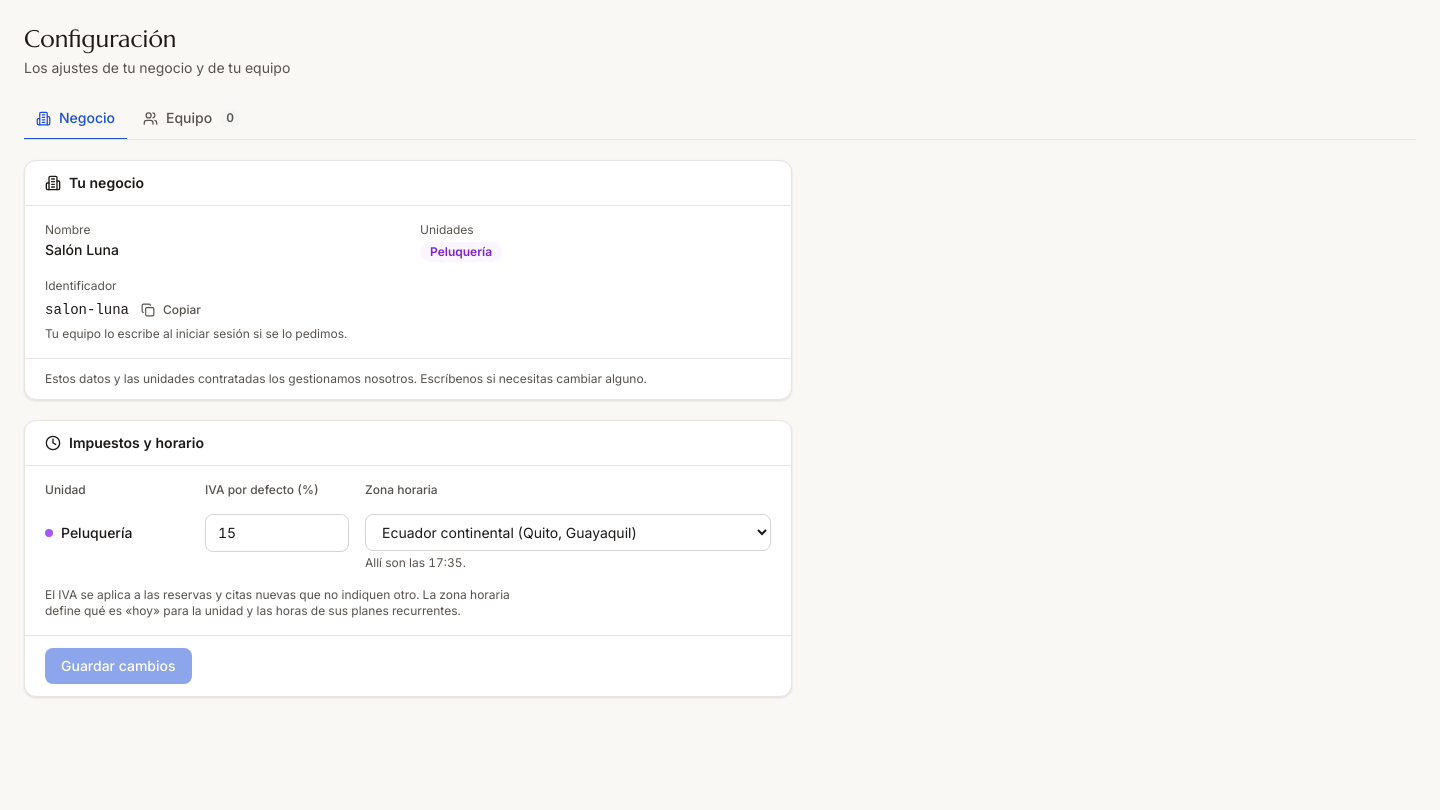
it: saving a unit's settings › shows the server's refusal inside the card and lets the change be discarded
This screenshot has width=1440, height=810.
Replace the text in the number field named "IVA por defecto" with "10" at [277, 533], box top-left (205, 514), bottom-right (349, 552)
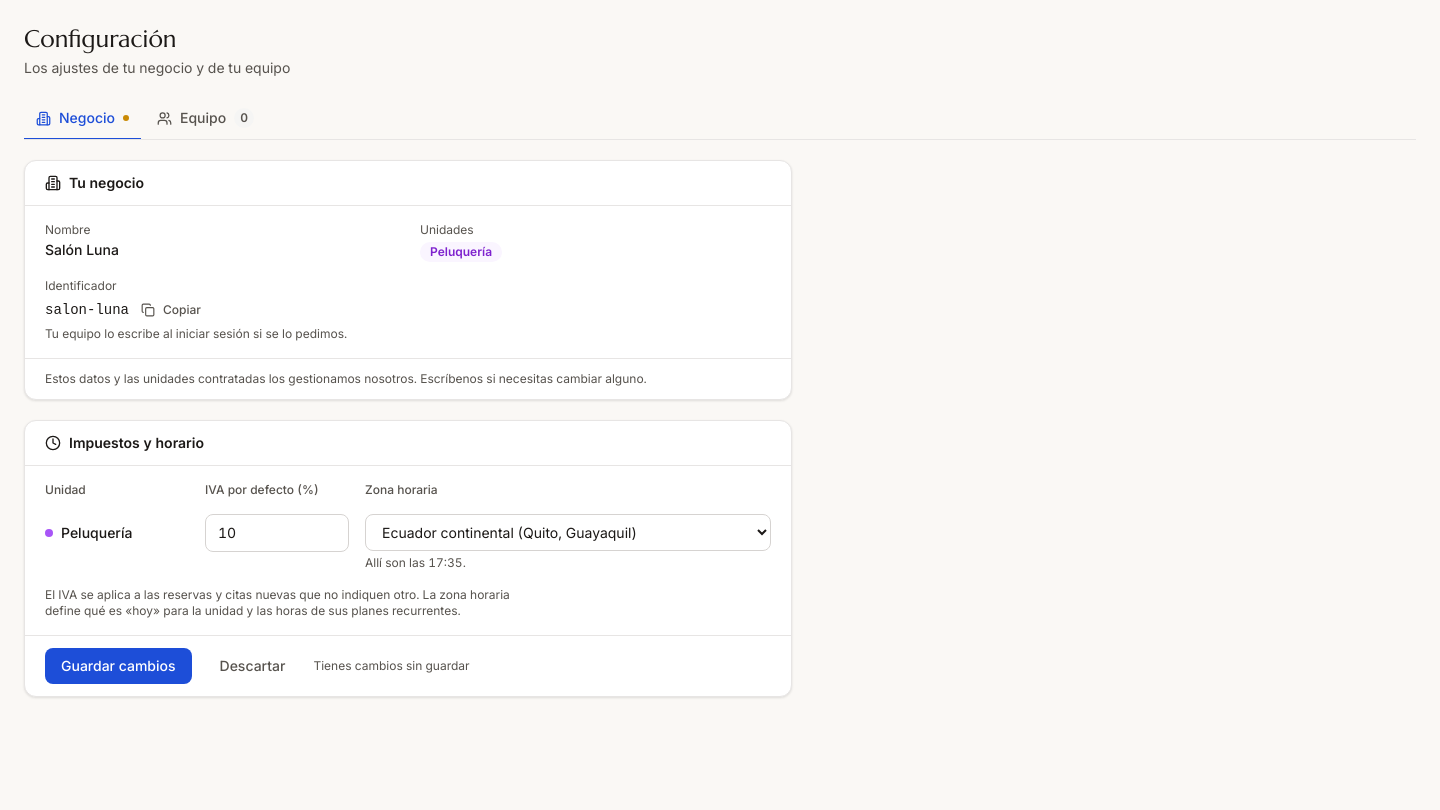
Click the button "Guardar cambios" at [118, 666], box top-left (45, 648), bottom-right (192, 684)
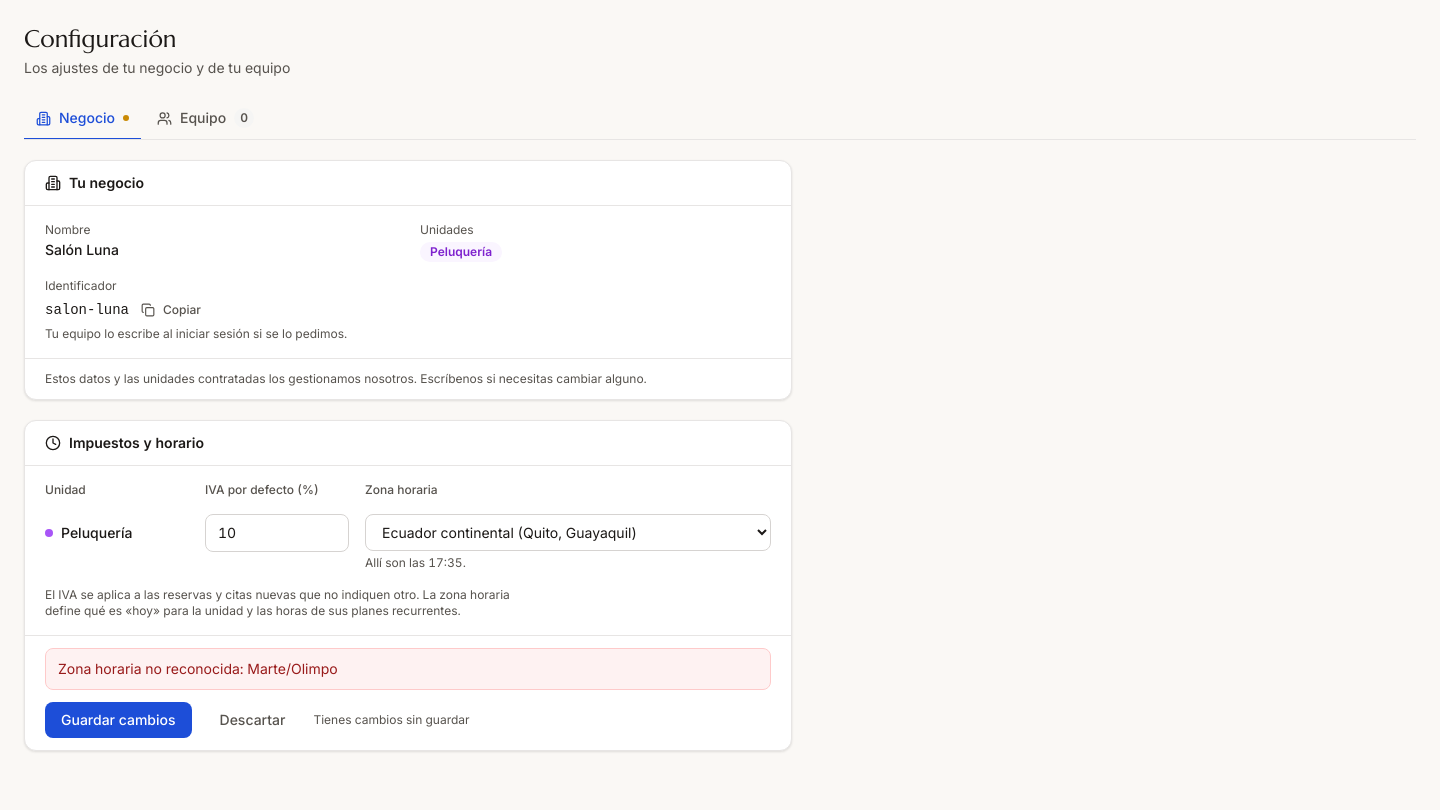
Expected: the message "Zona horaria no reconocida: Marte/Olimpo" is shown, top-left (45, 648), bottom-right (771, 690)
Click the button "Descartar" at [252, 720], box top-left (204, 702), bottom-right (301, 738)
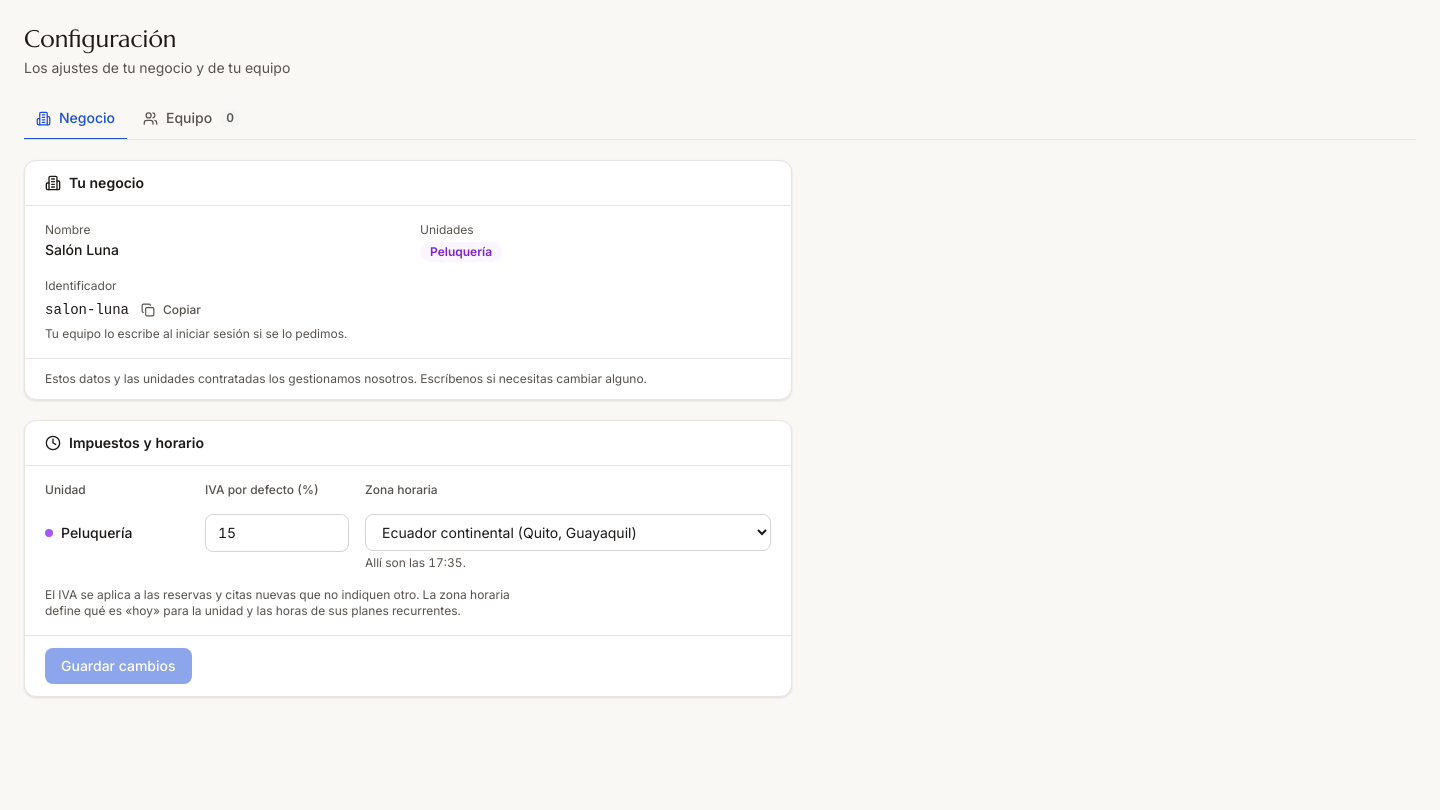
Expected: the number field named "IVA por defecto" holds "15", top-left (205, 514), bottom-right (349, 552)
Expected: the message "Zona horaria no reconocida: Marte/Olimpo" is gone
